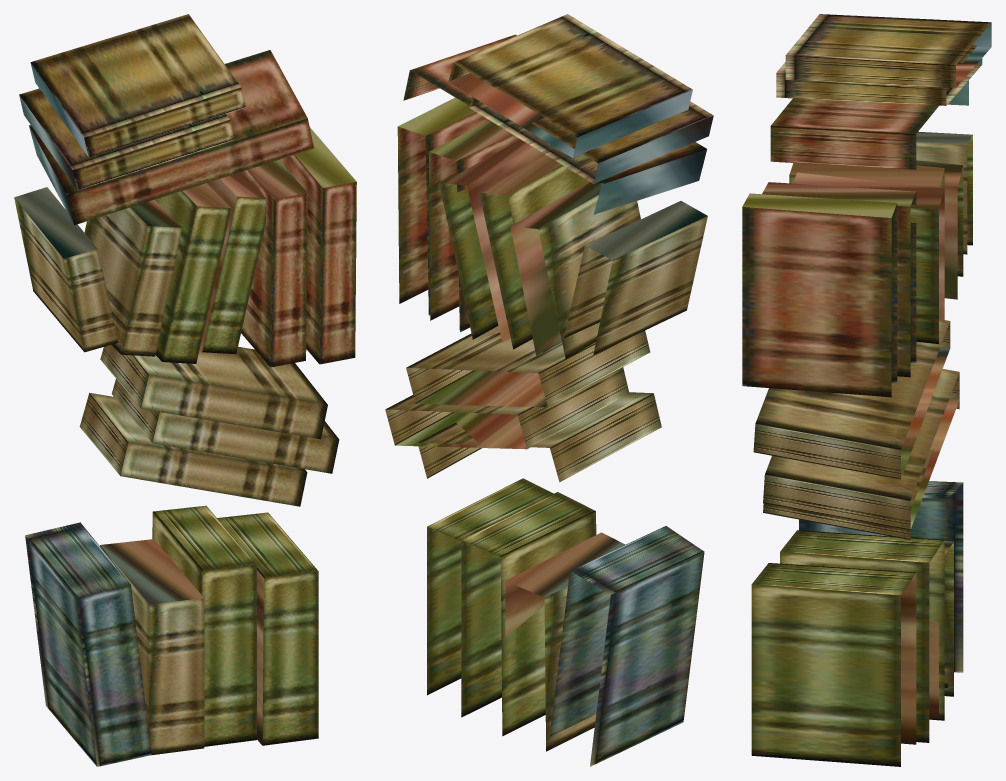
File: book34_5.glb
3 views of the same model, side by side, from view 1: azimuth 30°, elevation 25°; view 2: azimuth 150°, elevation 25°; view 3: azimuth 270°, elevation 25° (orthographic). The views are drawn at different scales.
Visible parts, largest first — view 1: book34_5; view 2: book34_5; view 3: book34_5.
Boxes of the visible parts, box(x1,y1,x2,y2) form: book34_5: box(14, 14, 356, 766); book34_5: box(385, 14, 713, 766); book34_5: box(742, 14, 991, 766).
Bounding box in the file's own units: 174 × 397 × 132.
Materials: 1 (1 with a texture image).
